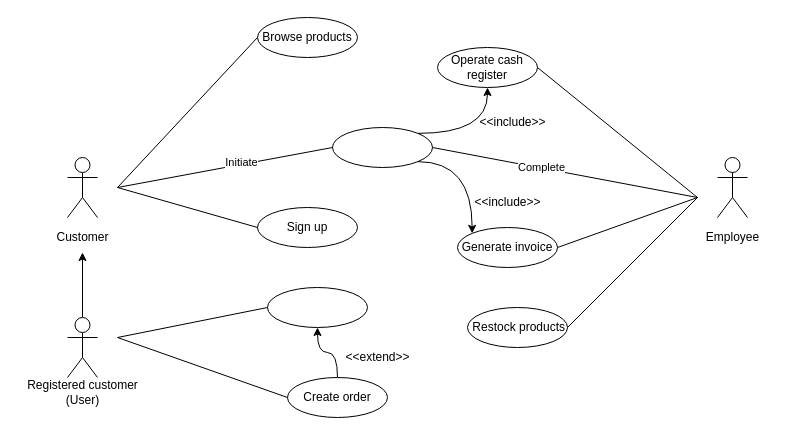
Image size: 789x435. Some labels were removed from this diagram. Here are the shapes that lost their labels. From the top down, the box of each, then its label:
(332, 126, 432, 168): Manage purchase
(266, 286, 368, 328): Log in
